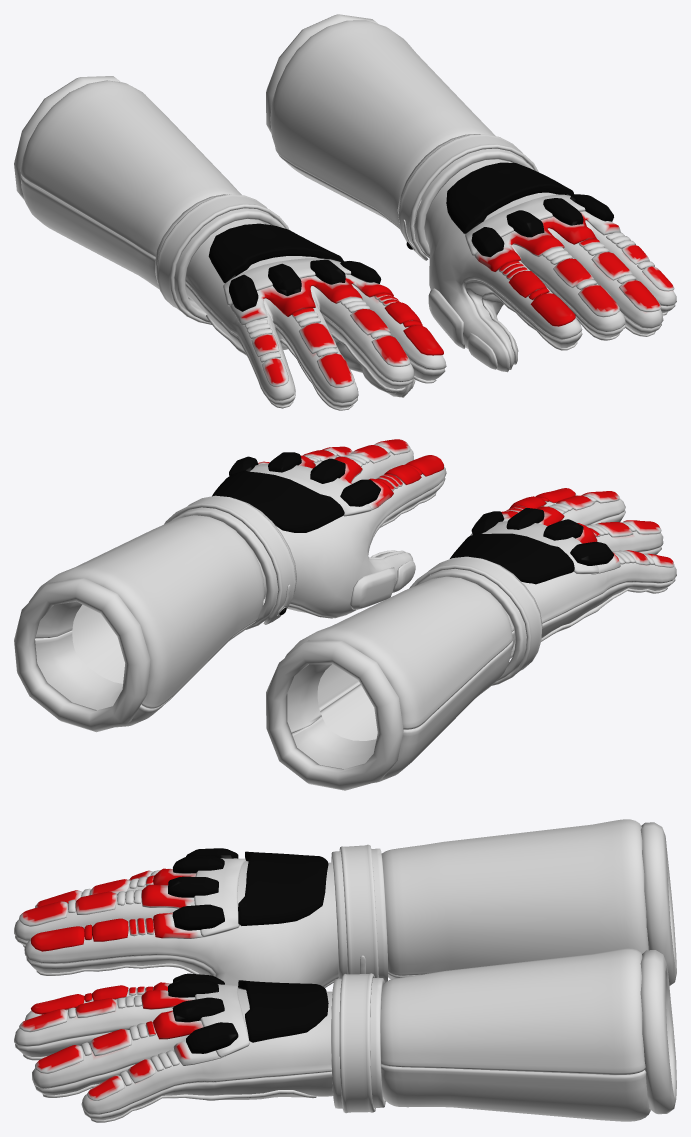
The model's file is GloveLf_Geo_low.fbx.
3 views of the same model, one above another, from view 1: azimuth 30°, elevation 25°; view 2: azimuth 150°, elevation 25°; view 3: azimuth 270°, elevation 25° (orthographic). The views are drawn at different scales.
Parts seen in each view (by area): view 1: GloveLf_Geo_low; view 2: GloveLf_Geo_low; view 3: GloveLf_Geo_low.
Boxes of the visible parts, bbox=[...] form: GloveLf_Geo_low: bbox=[14, 14, 676, 410]; GloveLf_Geo_low: bbox=[14, 439, 676, 790]; GloveLf_Geo_low: bbox=[14, 819, 676, 1122].
Bounding box in the file's own units: 30.95 × 11.85 × 41.38.
